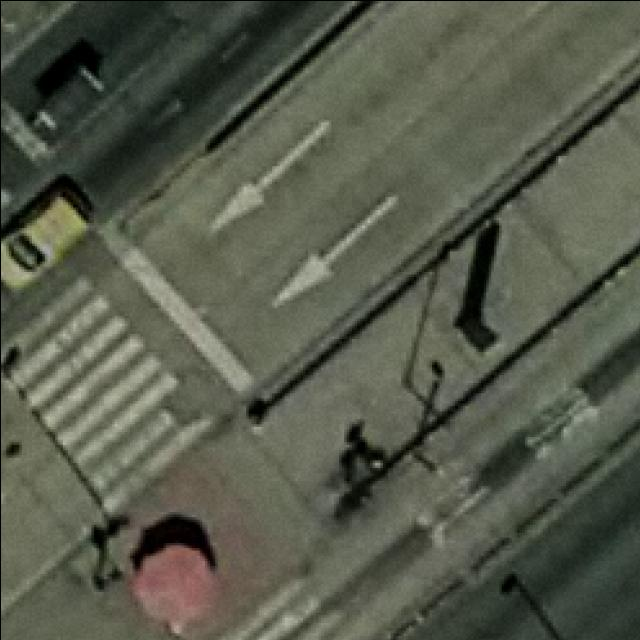vendedor_ambulante: (125, 538, 222, 627)
